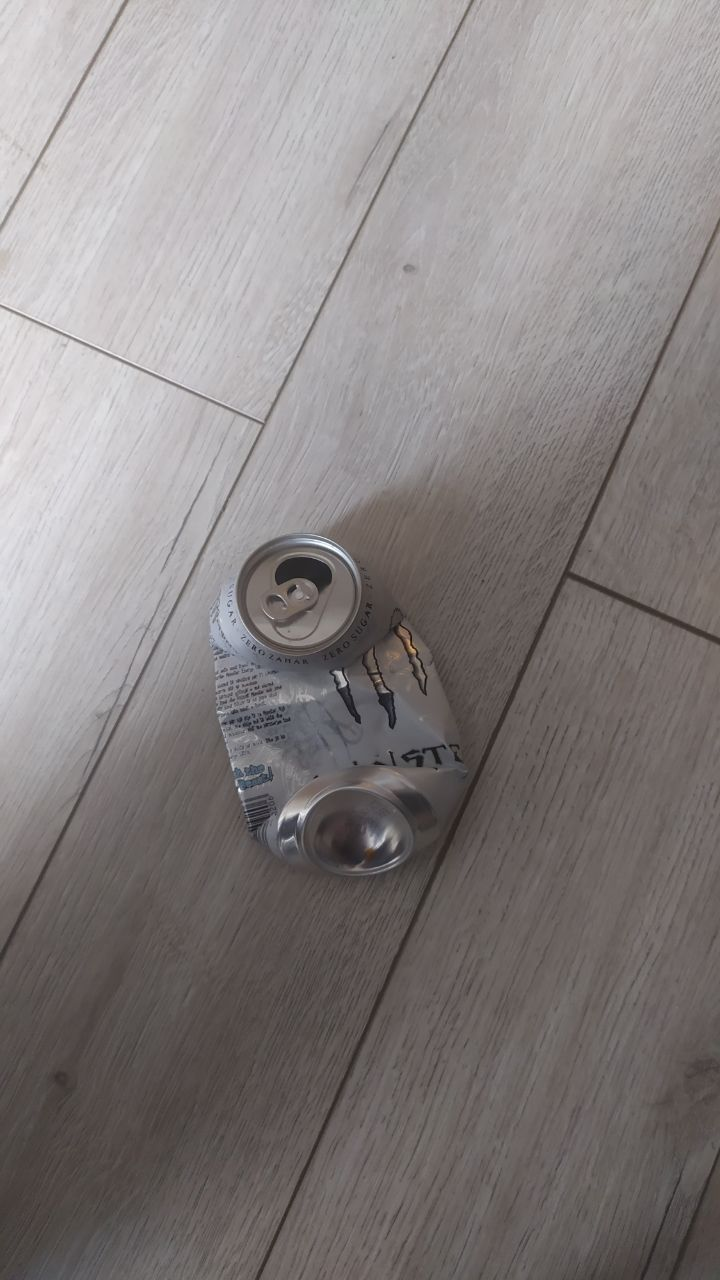Can: (208, 535, 477, 873)
